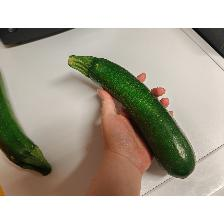Zucchini: (67, 54, 197, 180)
